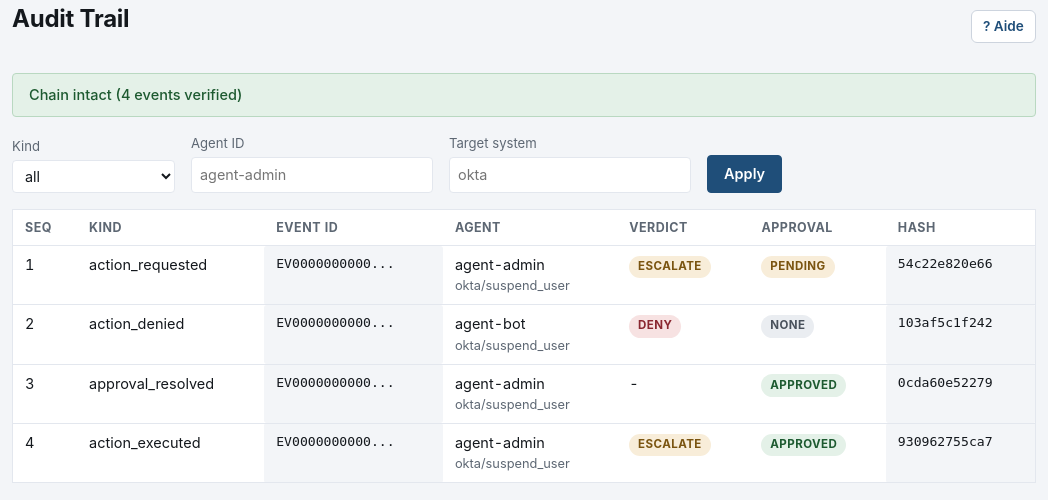
Test case: AuditPage › filters by target_system client-side on Apply
This screenshot has width=1048, height=500.
expect the text "Chain intact (4 events verified)" is shown: met, box top-left (12, 73), bottom-right (1036, 117)
Type "no-such-system" into the field labelled "Target system". click: (570, 175)
box: top-left (449, 157), bottom-right (691, 193)
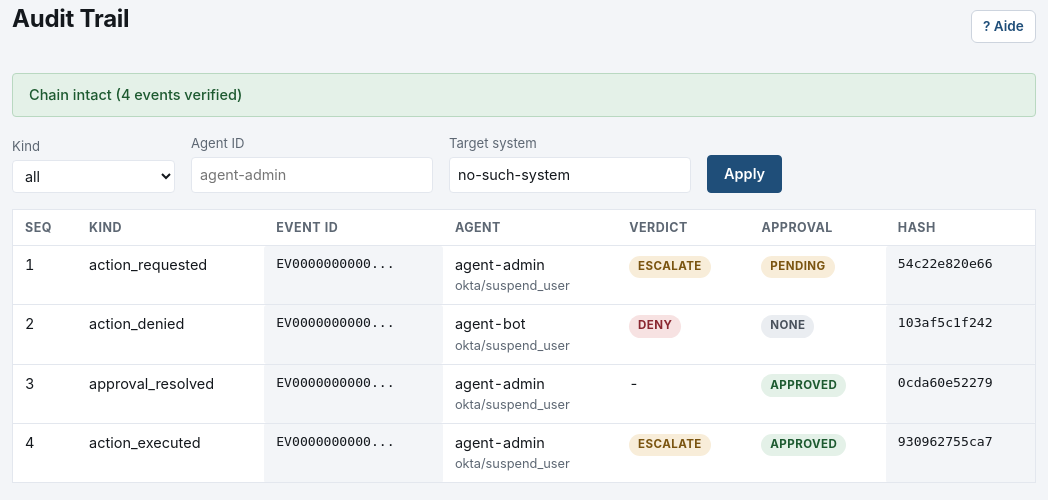
Click the button "Apply". click: (745, 174)
box: top-left (707, 155), bottom-right (782, 193)
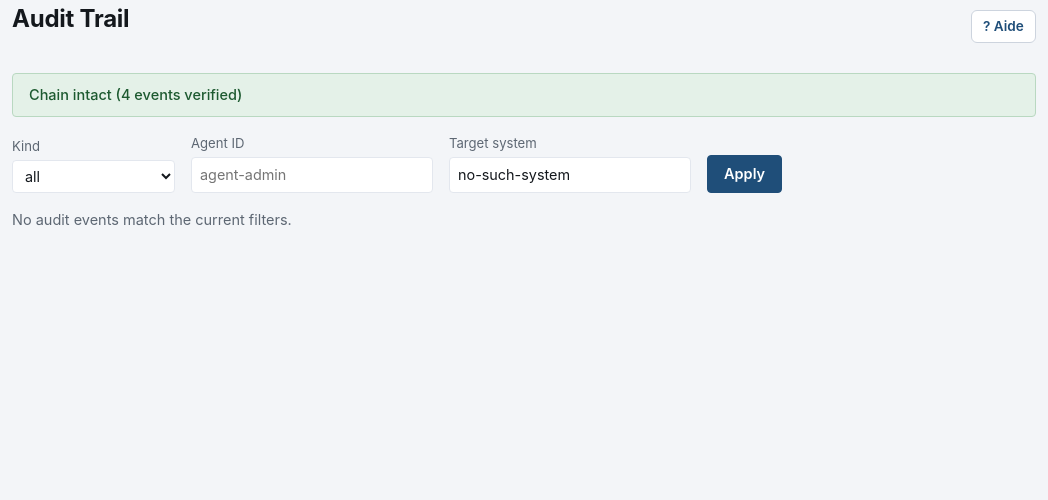
expect the text "No audit events match the current filters." is shown: met, box top-left (12, 211), bottom-right (292, 228)
